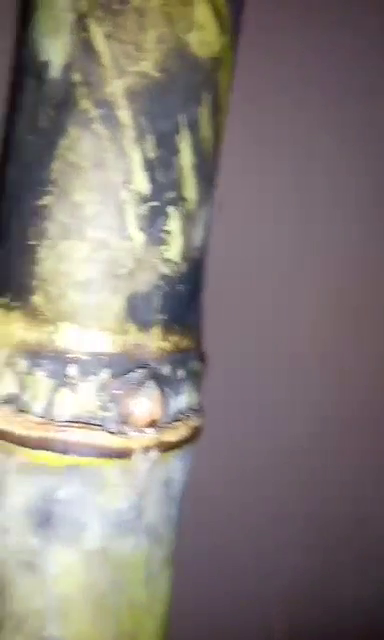cane eye: (112, 378, 169, 435)
